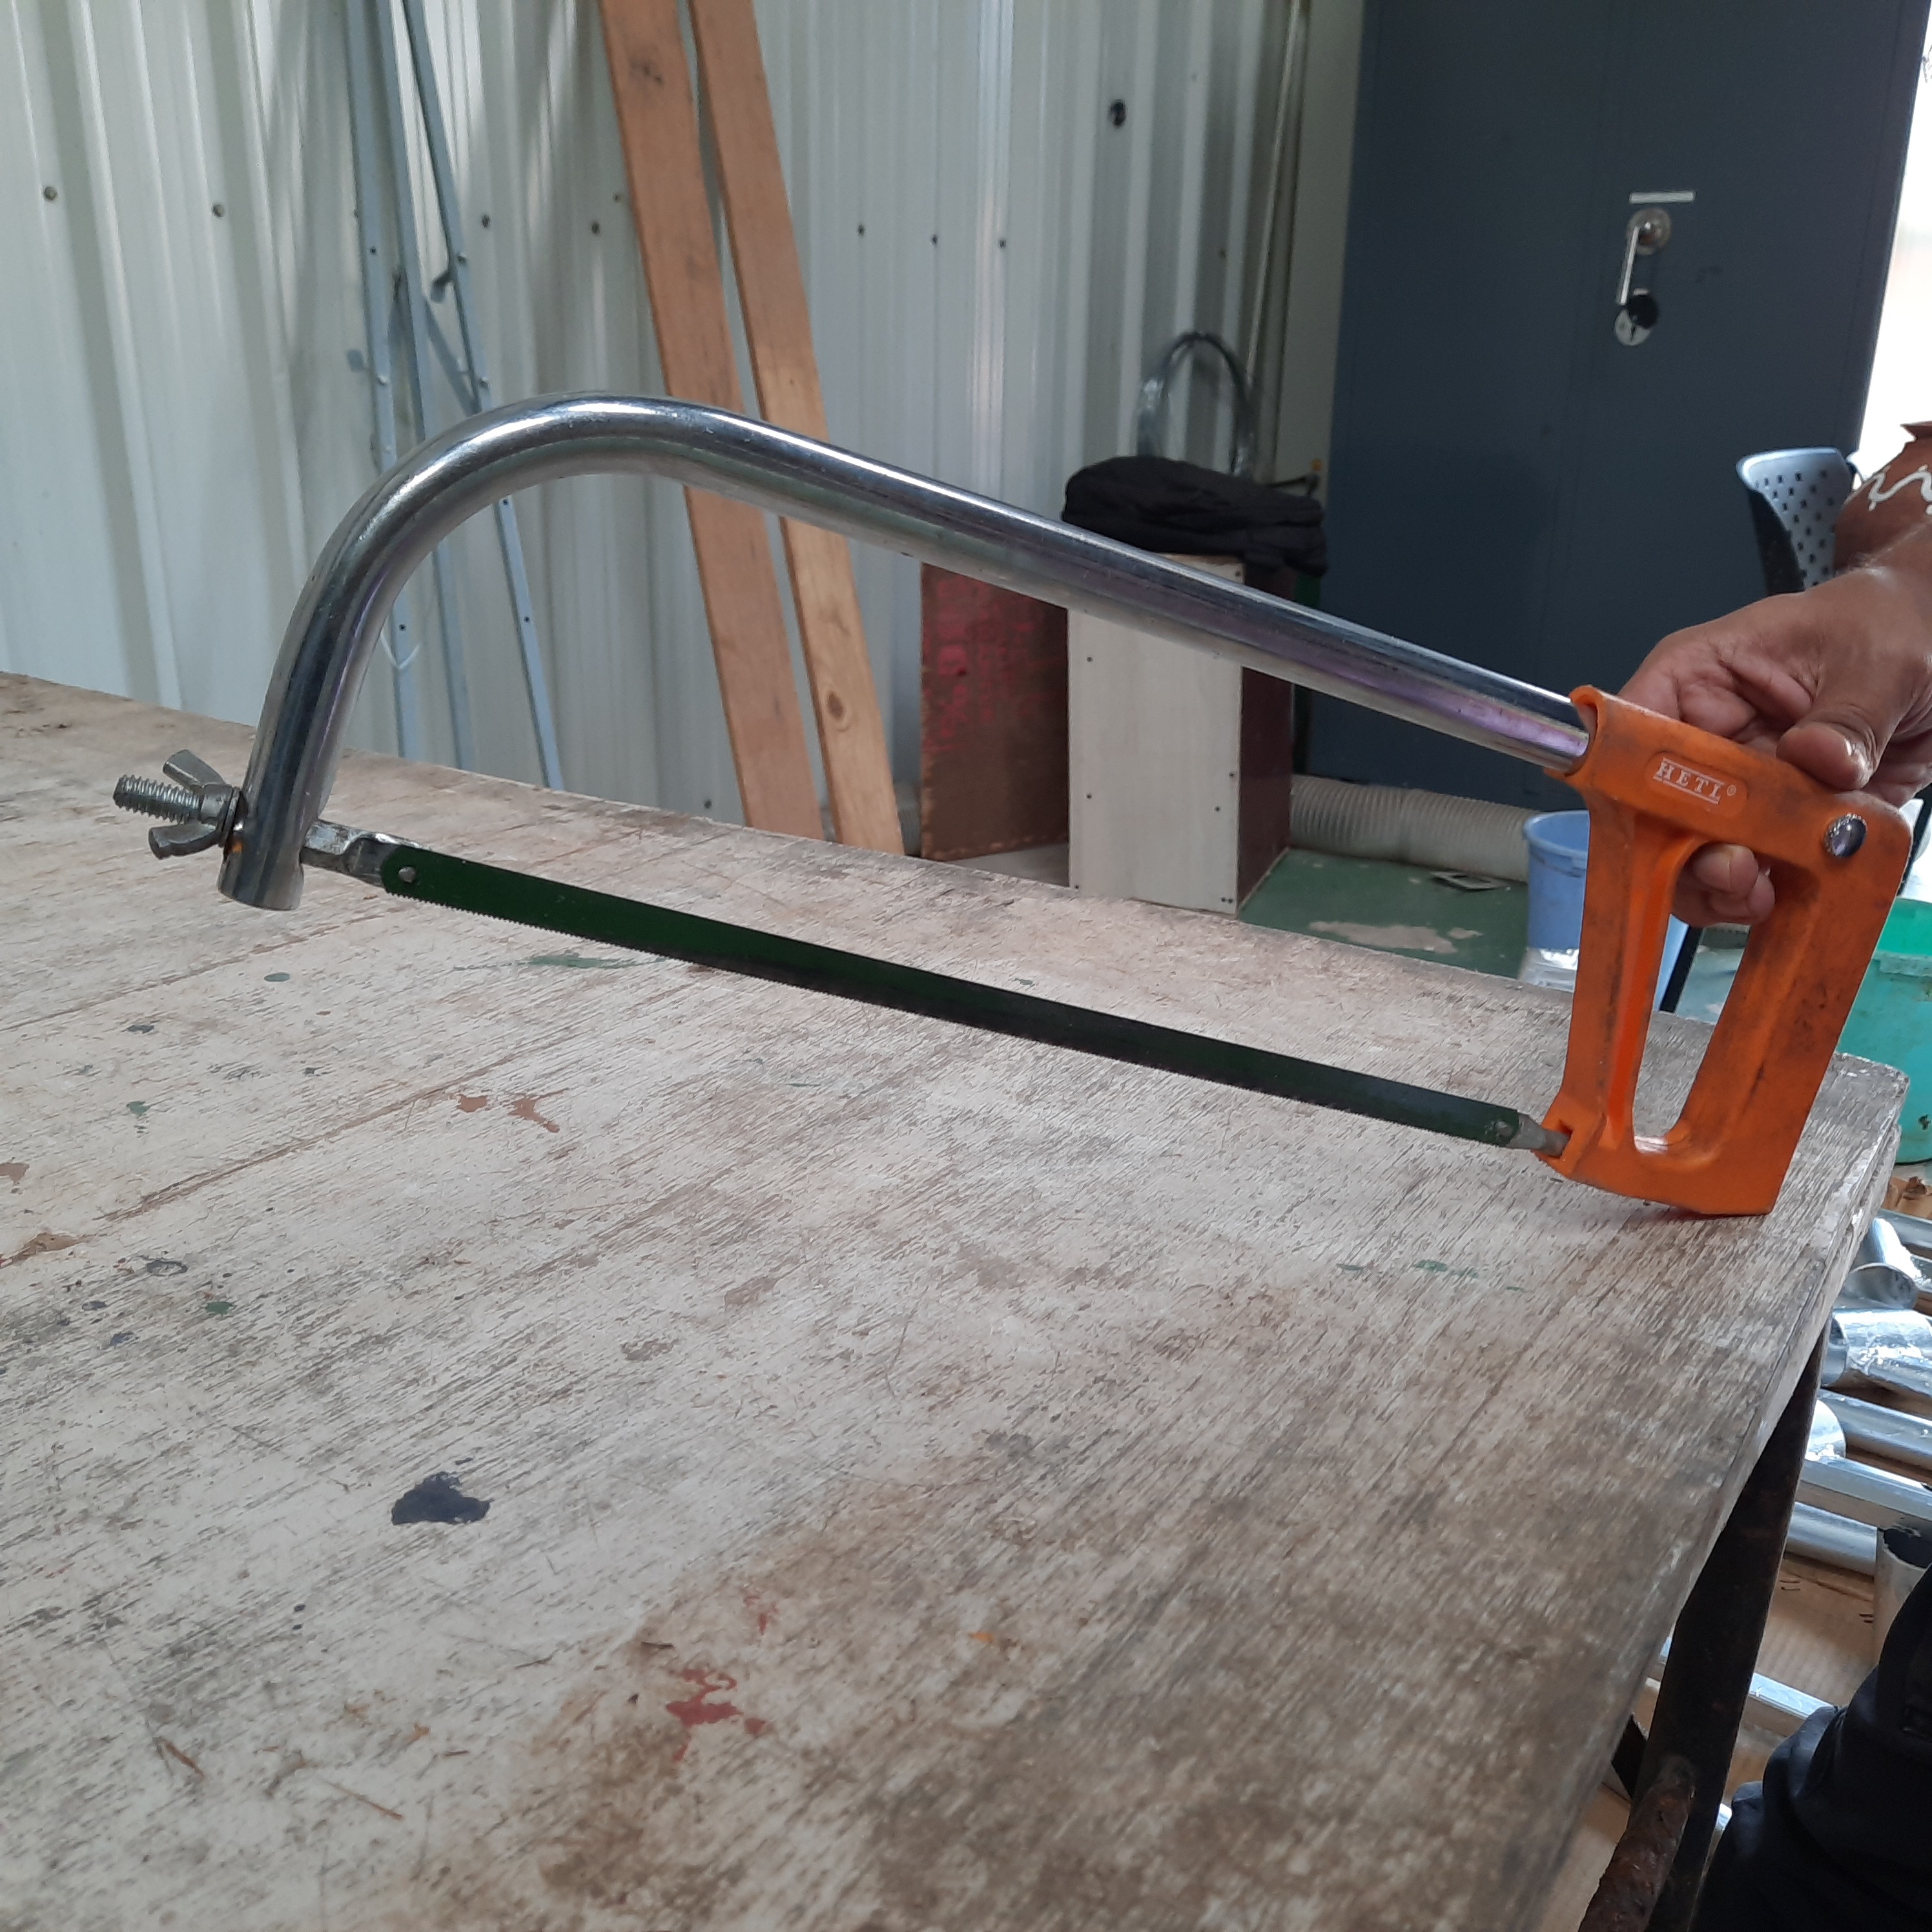Hexaframe: (124, 333, 1875, 1292)
